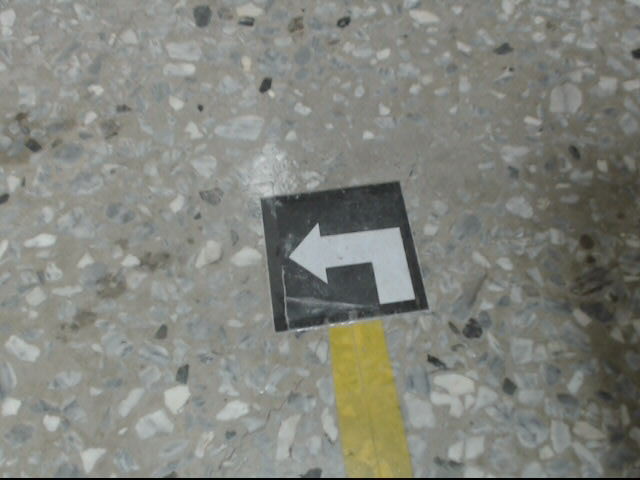left: (260, 179, 432, 333)
